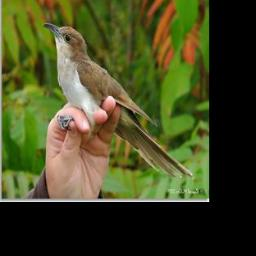Cuckoo: (43, 22, 194, 180)
